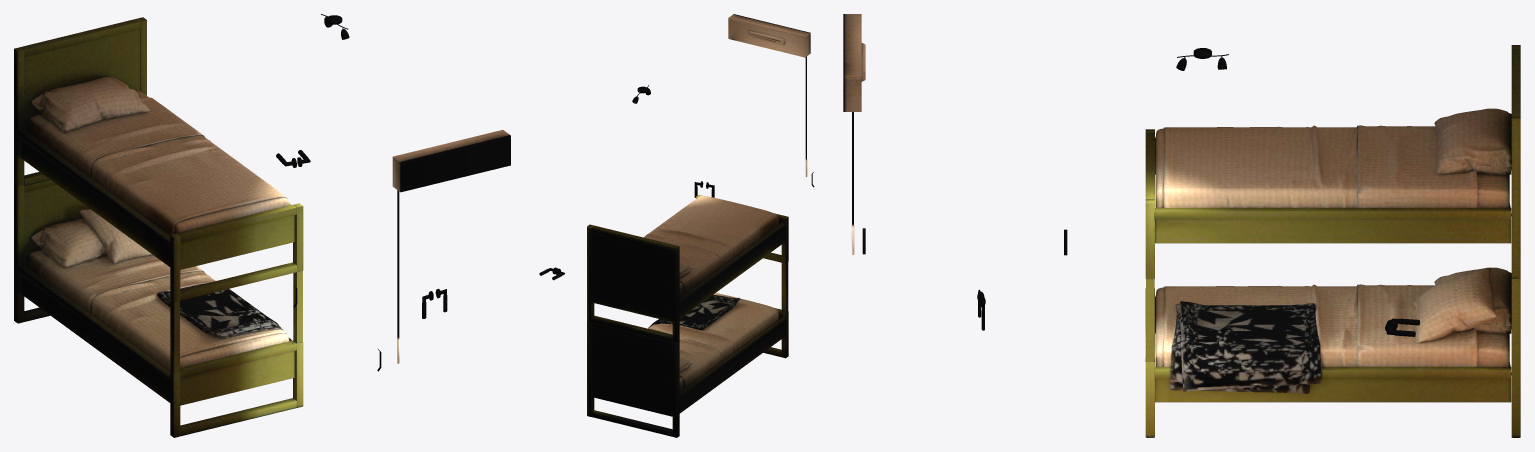
Rendered from SM_SmallR_F0.glb.
3 renders of one model, left to right at view 1: azimuth 30°, elevation 25°; view 2: azimuth 150°, elevation 25°; view 3: azimuth 270°, elevation 25°, orthographic. The views are drawn at different scales.
Parts seen in each view (by area): view 1: SM_SmallR_F0; view 2: SM_SmallR_F0; view 3: SM_SmallR_F0.
Boxes of the visible parts, x1,y1,x2,y2 form: SM_SmallR_F0: (14, 14, 510, 437); SM_SmallR_F0: (539, 14, 814, 437); SM_SmallR_F0: (843, 14, 1520, 437).
Bounding box in the file's own units: 1.77 × 2.49 × 3.65.
1 material, 1 textured.
